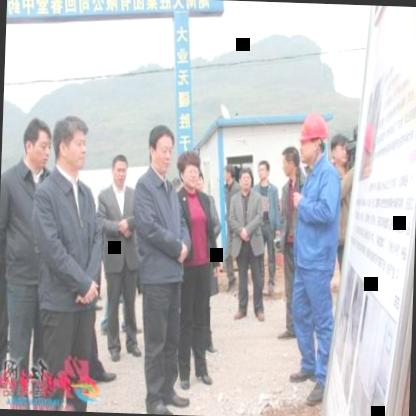head: (51, 110, 93, 178), (146, 122, 178, 176), (22, 116, 52, 173), (175, 150, 204, 196), (328, 134, 352, 175), (280, 145, 301, 185), (110, 152, 129, 188), (257, 156, 273, 184), (239, 165, 254, 193), (222, 159, 238, 185)
helmet: (296, 107, 330, 168)
